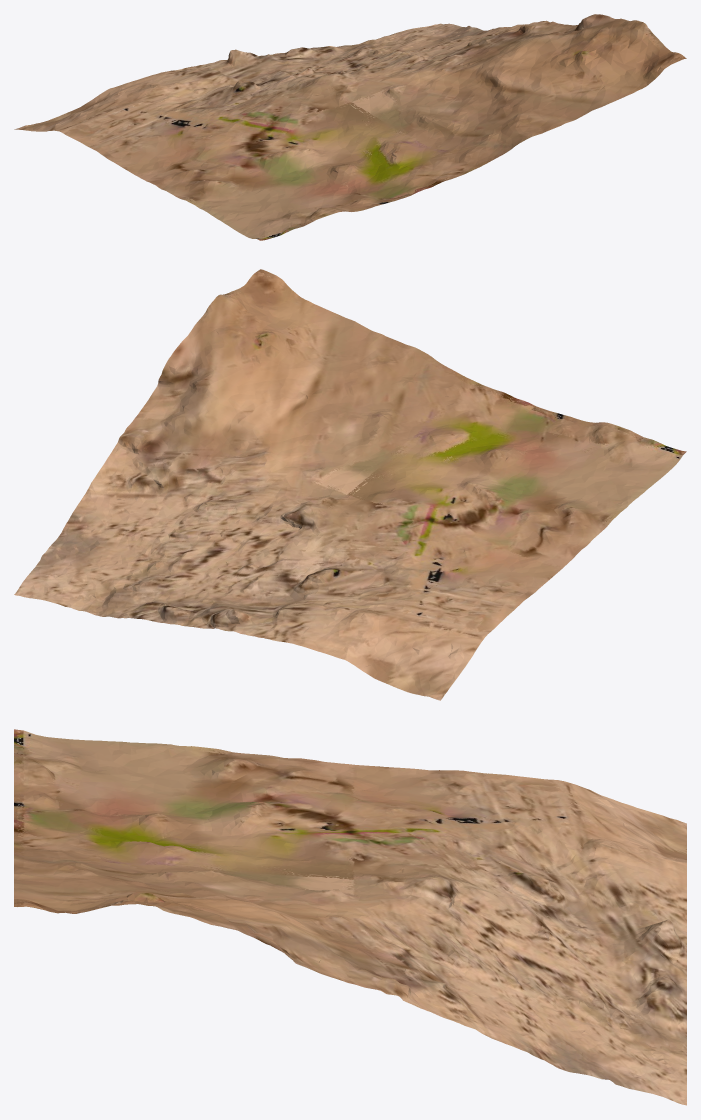
3 renders of one model, top to bottom at view 1: azimuth 30°, elevation 25°; view 2: azimuth 150°, elevation 25°; view 3: azimuth 270°, elevation 25°, orthographic. The views are drawn at different scales.
Size of the model in its own units: 2.09 by 0.7096 by 2.09.
Materials: 3 (3 with a texture image).
